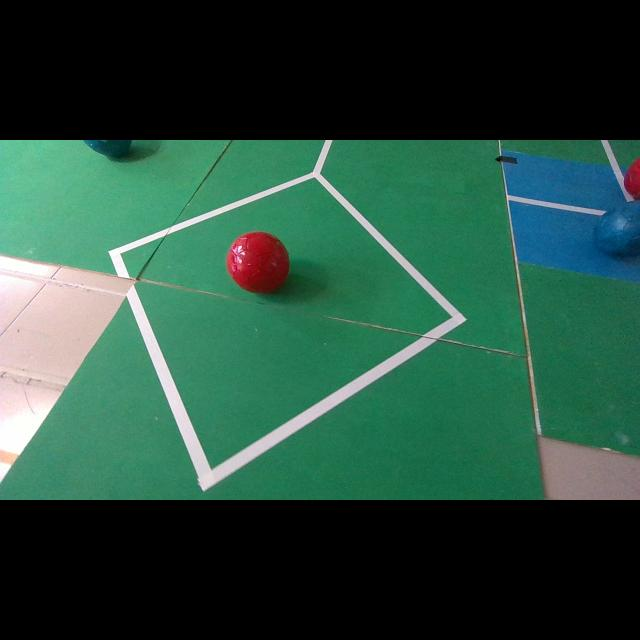B: (594, 205, 640, 257)
R: (226, 231, 290, 292)
